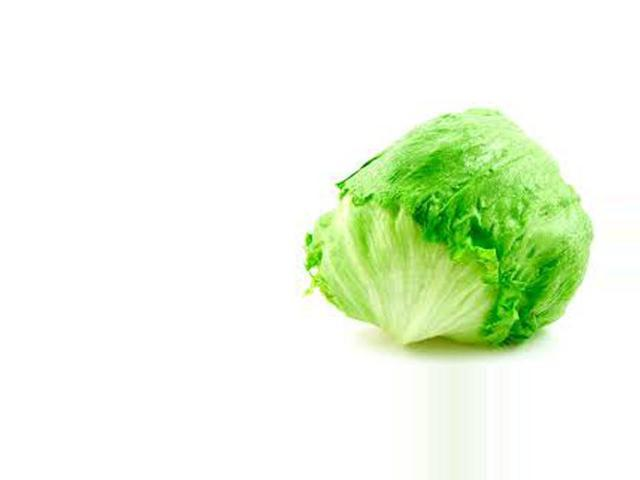lettuce: (202, 58, 311, 279)
